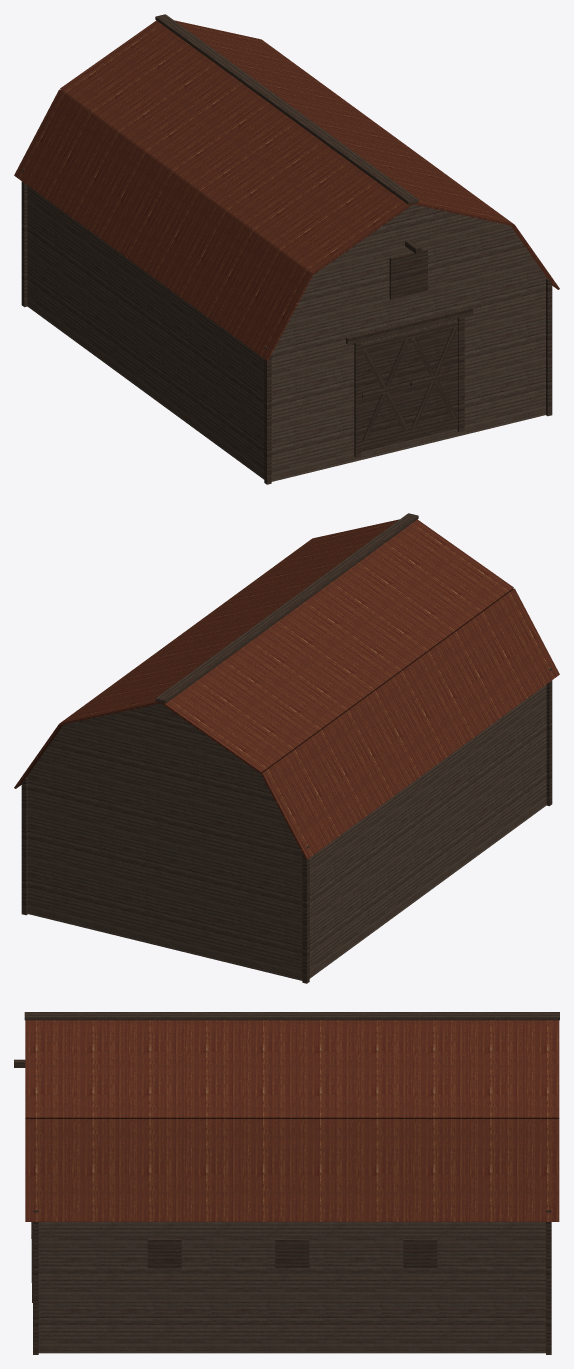
File: Barn.gltf
3 renders of one model, top to bottom at view 1: azimuth 30°, elevation 25°; view 2: azimuth 150°, elevation 25°; view 3: azimuth 270°, elevation 25°, orthographic. The views are drawn at different scales.
Visible parts, largest first — view 1: Barn; view 2: Barn; view 3: Barn.
Boxes of the visible parts, left/top/right/bottom form: Barn: left=14, top=14, right=559, bottom=484; Barn: left=14, top=513, right=559, bottom=983; Barn: left=14, top=1012, right=559, bottom=1354.
Size of the model in its own units: 12.61 by 10.36 by 19.22.
Materials: 3 (3 with a texture image).
